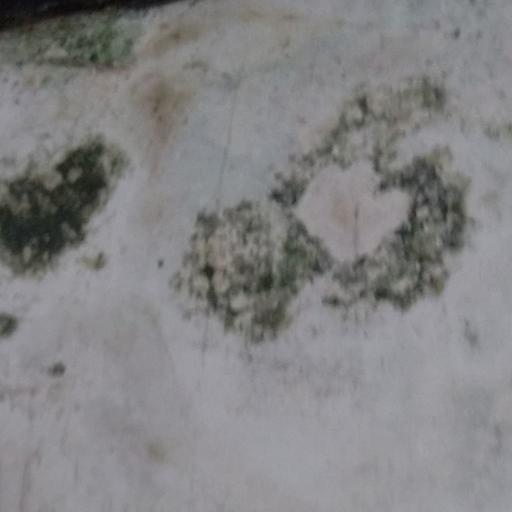algae: (0, 63, 486, 340)
